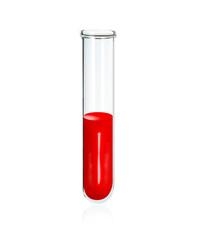Test tube: (73, 16, 122, 202)
